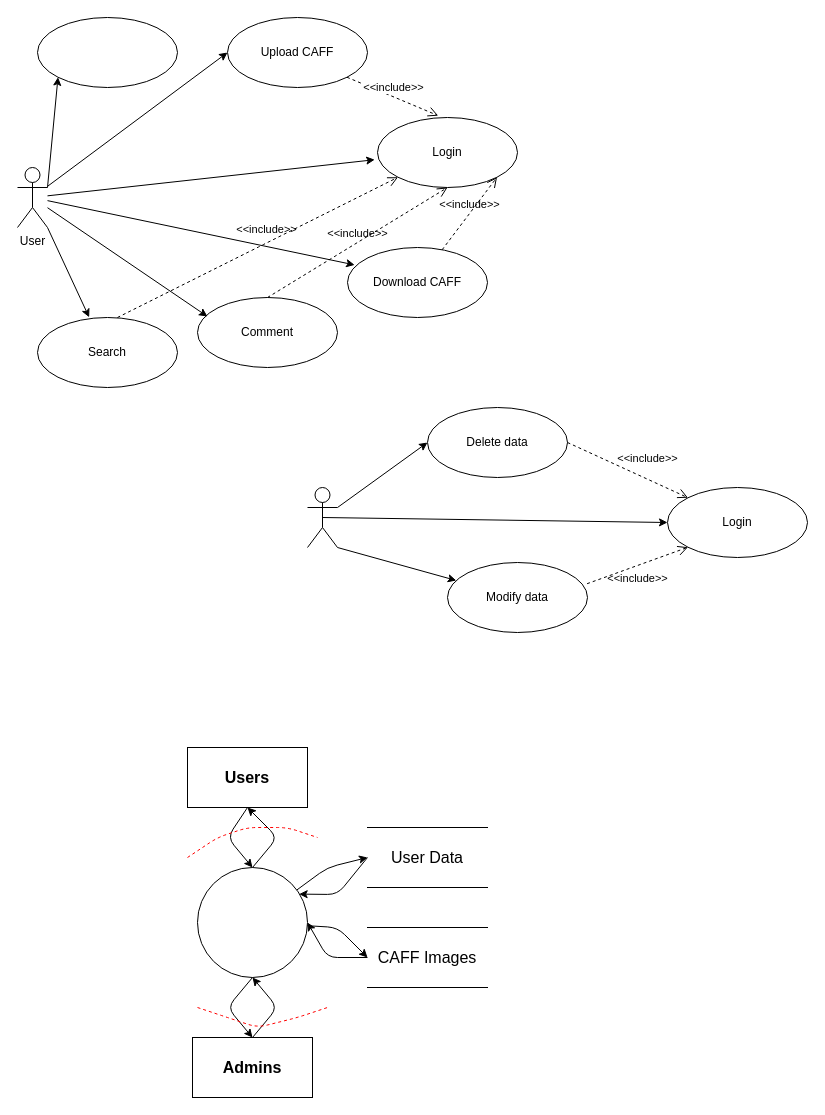
Some shapes in this 825 by 1115 pixel diagram are drawn without their labels. The centre of each missing label's shape, as x and y in pixels:
"Admin" belongs at (322,517).
"Register" belongs at (107,52).
"Webshop" belongs at (252,922).
